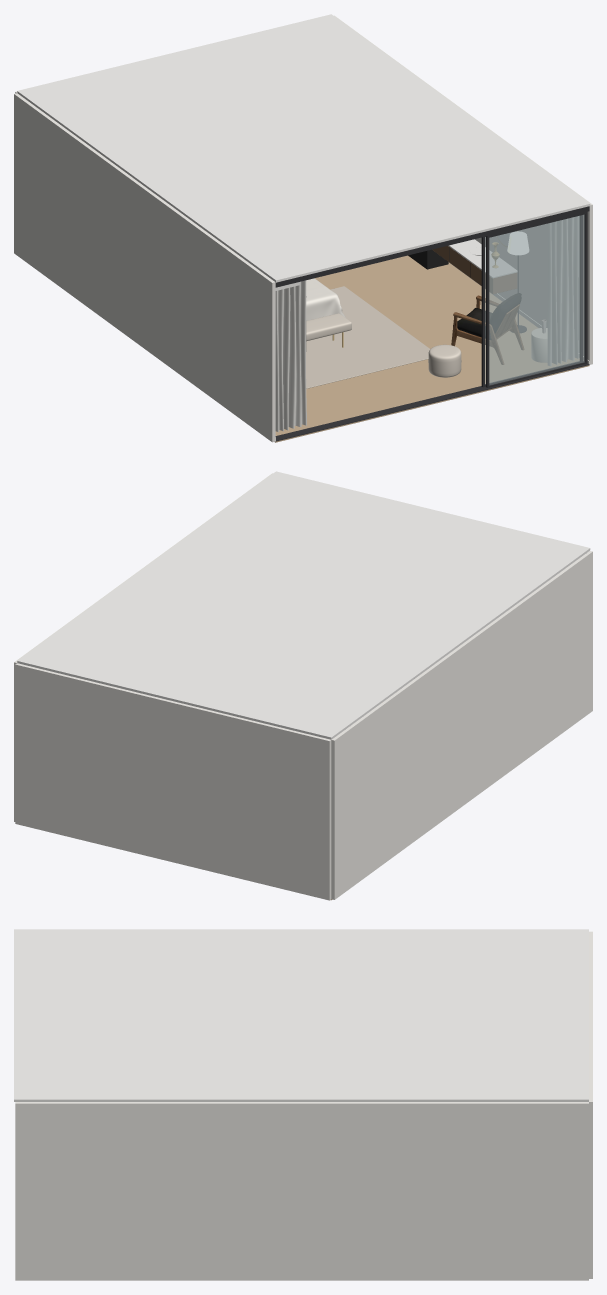
The model's file is room.glb.
3 views of the same model, one above another, from view 1: azimuth 30°, elevation 25°; view 2: azimuth 150°, elevation 25°; view 3: azimuth 270°, elevation 25° (orthographic). The views are drawn at different scales.
Parts seen in each view (by area): view 1: room; view 2: room; view 3: room.
Boxes of the visible parts, x1=… form: room: x1=14, y1=14, x2=592, y2=442; room: x1=14, y1=471, x2=592, y2=900; room: x1=14, y1=929, x2=592, y2=1280.
Size of the model in its own units: 6.02 by 2.92 by 8.48.
28 materials, 6 textured.
